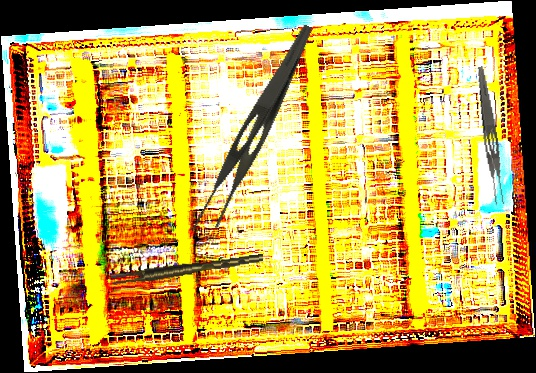Dressing Forceps: (188, 13, 315, 242), (471, 65, 508, 206)
Tissue Forceps: (110, 254, 265, 285)
